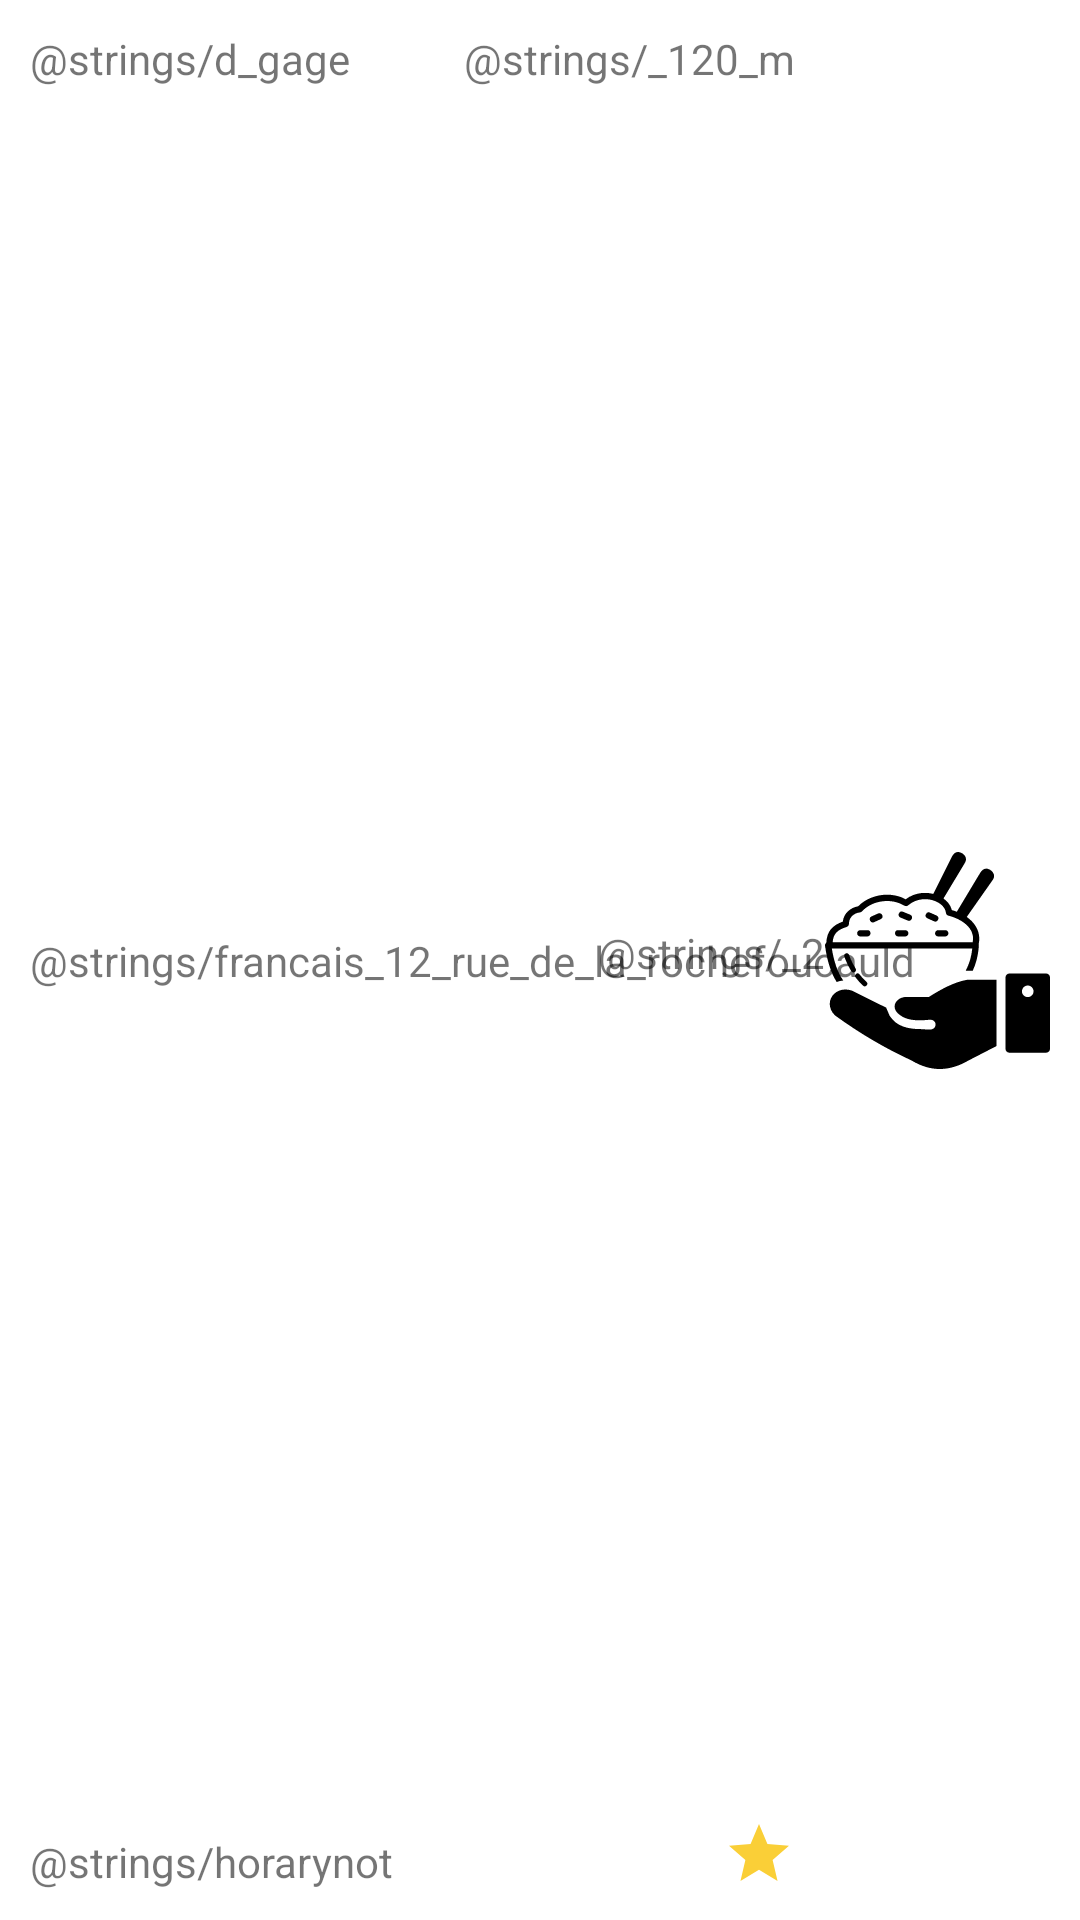

Locate icon controls on the screen. Image size 1080*1920, boxes as (x1, y1, x2, y2).
food donation: (829, 911, 1050, 1069)
star: (729, 1824, 789, 1881)
